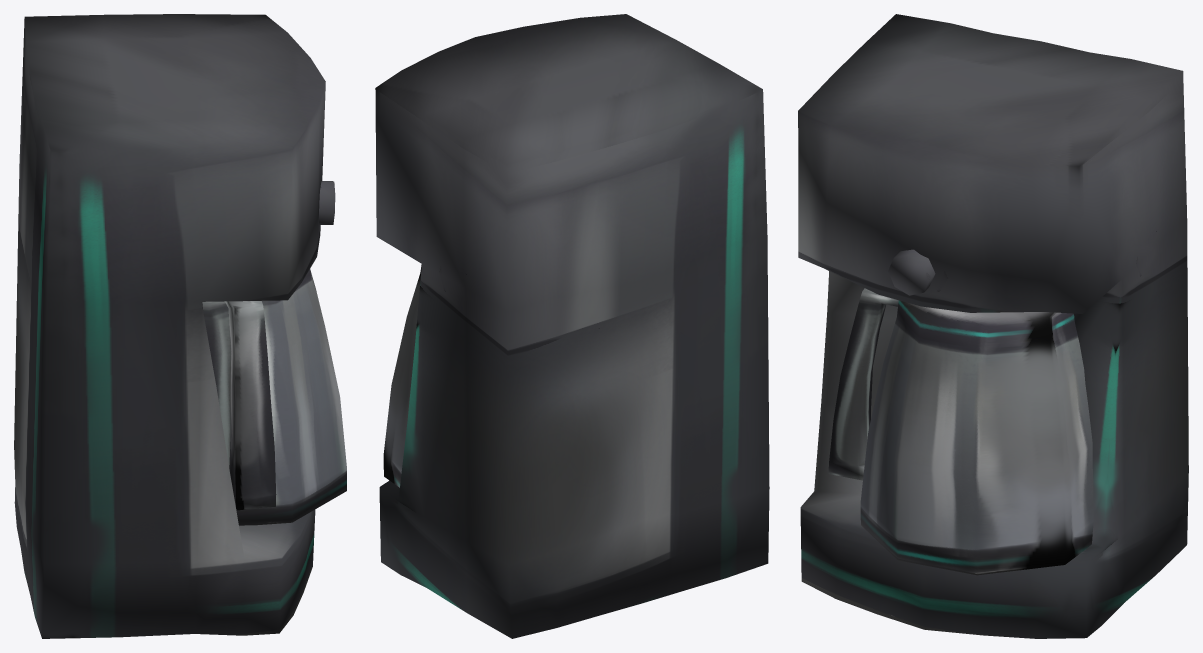
Rendered from Coffee Machene.fbx.
The picture shows the model from 3 angles, left to right: view 1: azimuth 30°, elevation 25°; view 2: azimuth 150°, elevation 25°; view 3: azimuth 270°, elevation 25°; orthographic projection. The views are drawn at different scales.
Visible parts, largest first — view 1: Plane.004; view 2: Plane.004; view 3: Plane.004.
Boxes of the visible parts, x1,y1,x2,y2 form: Plane.004: (14, 14, 346, 638); Plane.004: (375, 14, 769, 638); Plane.004: (798, 14, 1188, 638).
Size of the model in its own units: 38.26 by 53.62 by 39.13.
1 material, 1 textured.
